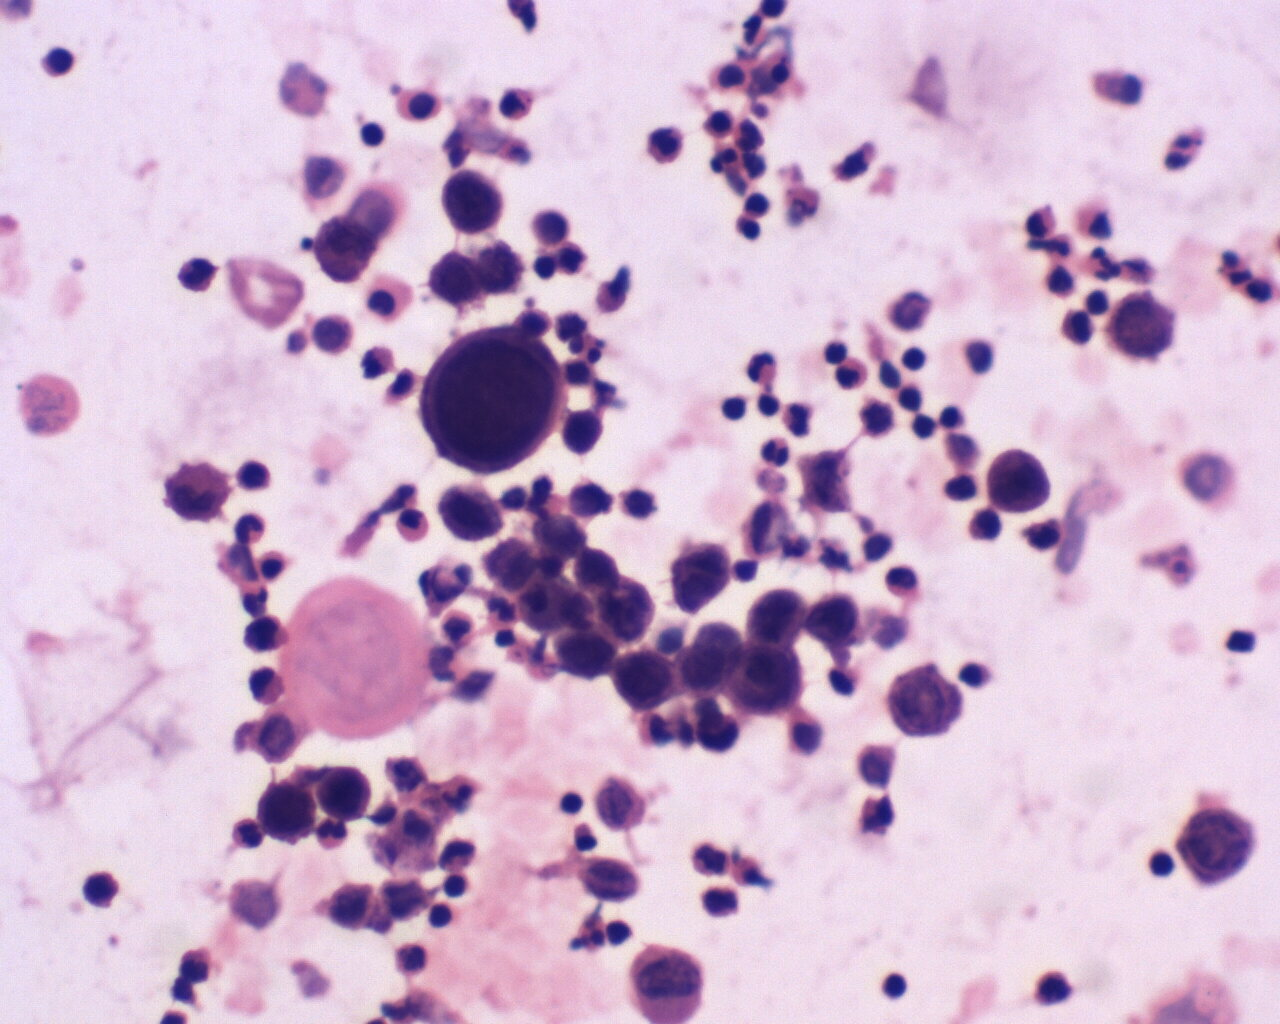ab: (421, 322, 573, 473), (1176, 802, 1258, 888), (884, 657, 965, 741), (628, 942, 706, 1024), (730, 639, 809, 719), (436, 167, 508, 237), (668, 539, 732, 616), (1111, 289, 1178, 363), (982, 446, 1052, 515), (438, 481, 508, 546), (610, 646, 678, 712), (256, 779, 318, 845), (555, 619, 619, 681), (430, 250, 482, 310), (318, 765, 371, 819)
lymph: (84, 865, 126, 913), (37, 41, 78, 80), (875, 968, 912, 1006), (1144, 848, 1184, 885), (714, 392, 750, 427), (353, 114, 387, 152), (897, 340, 931, 375), (424, 897, 456, 930)
neutro: (745, 349, 783, 385), (761, 433, 795, 469), (316, 816, 350, 852)
